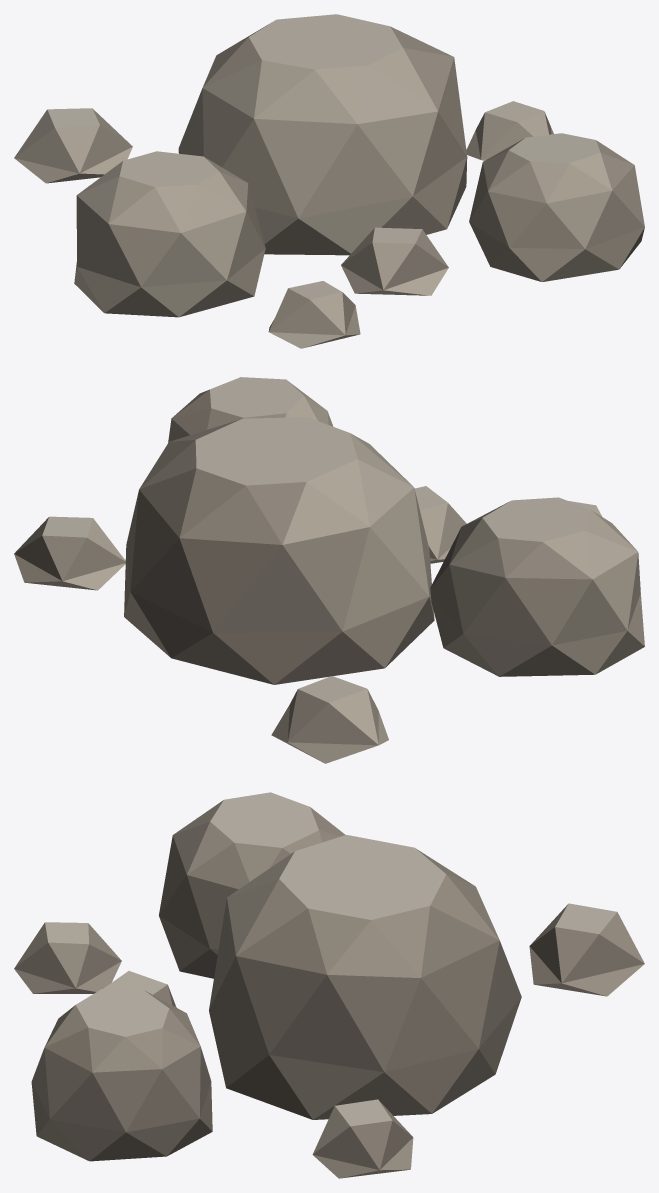
Rendered from pebbles.glb.
3 renders of one model, top to bottom at view 1: azimuth 30°, elevation 25°; view 2: azimuth 150°, elevation 25°; view 3: azimuth 270°, elevation 25°, orthographic. The views are drawn at different scales.
Parts seen in each view (by area): view 1: pebbles; view 2: pebbles; view 3: pebbles.
Part boxes in pixels (left/top/right/bottom): pebbles: left=14, top=14, right=644, bottom=348; pebbles: left=14, top=377, right=644, bottom=763; pebbles: left=14, top=792, right=644, bottom=1178.
Bounding box in the file's own units: 1 × 0.2969 × 0.935.
